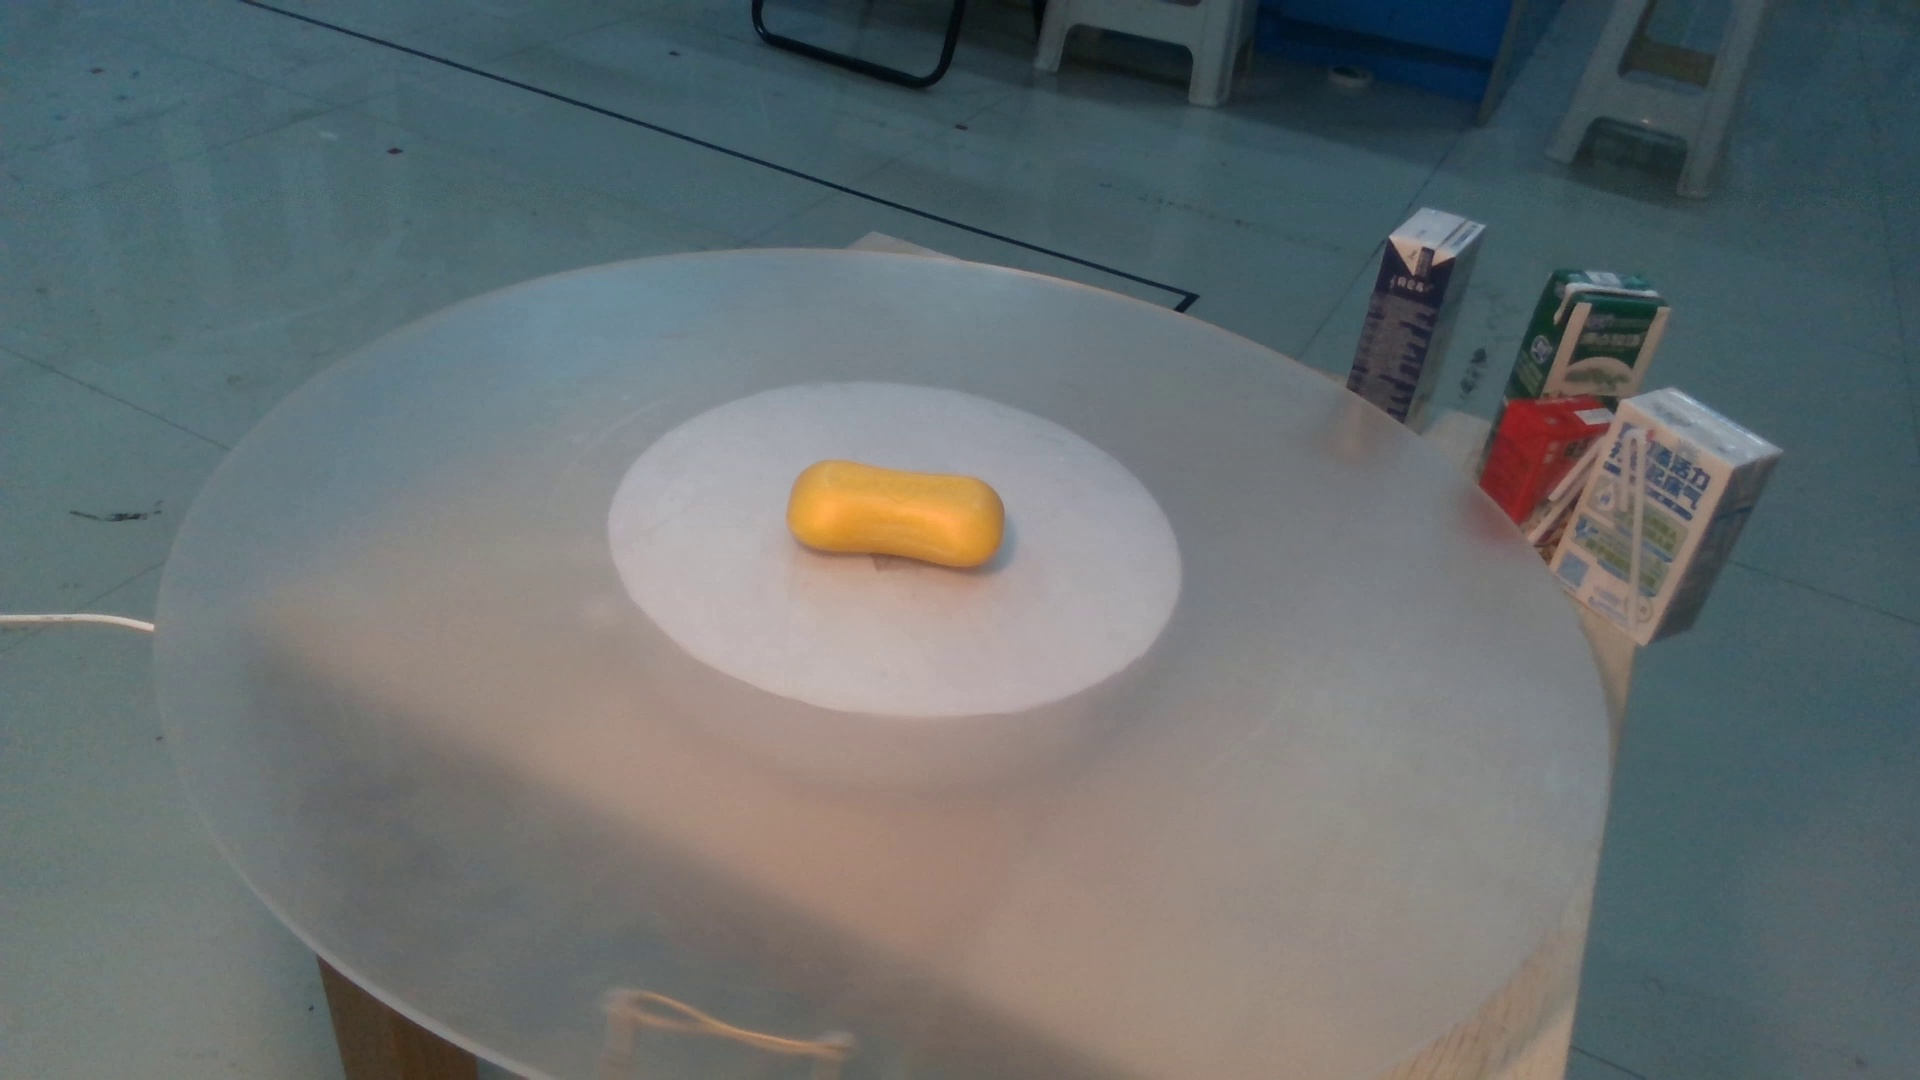CA003_1: (770, 438, 1033, 591)
